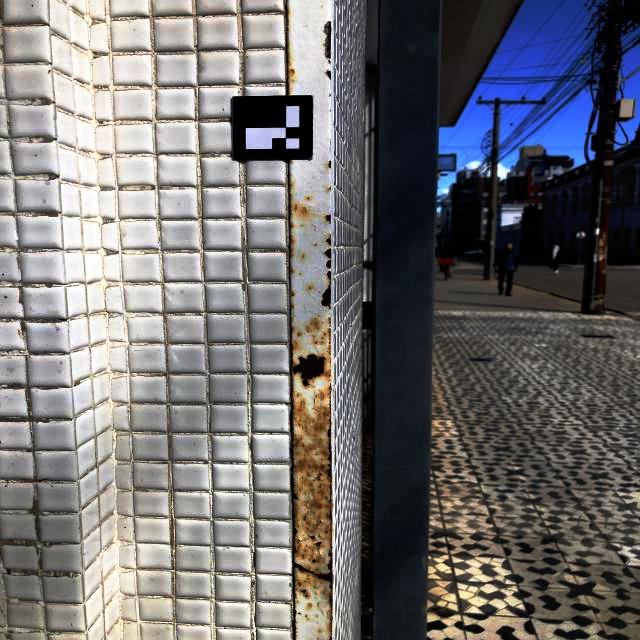Corrosion: (293, 387, 332, 640), (594, 33, 621, 300), (302, 317, 332, 382), (293, 354, 325, 386), (321, 247, 332, 307), (324, 20, 332, 57), (290, 341, 297, 352), (326, 234, 332, 246), (327, 70, 331, 83), (290, 219, 294, 230), (326, 214, 331, 222), (328, 160, 331, 168), (290, 67, 294, 72)
